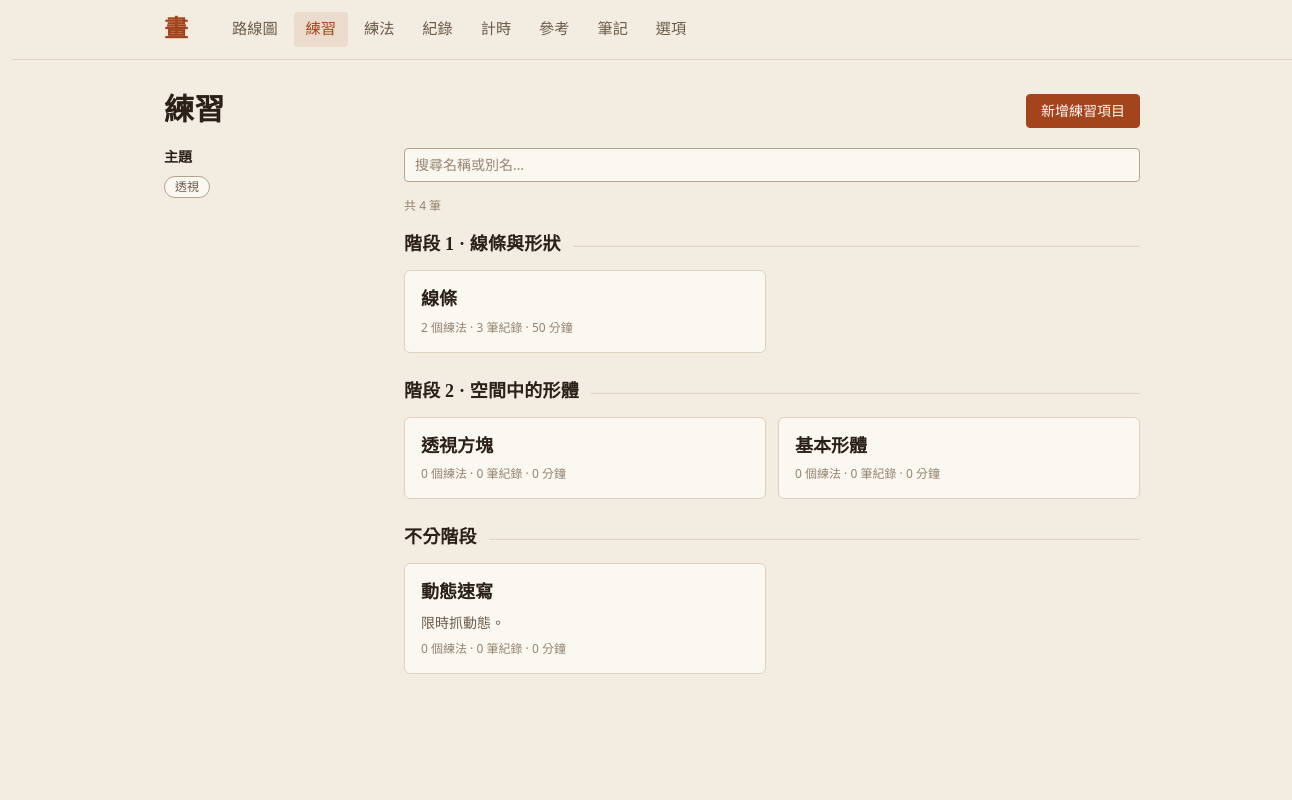
Test: the exercise library › keeps the topic filter in the URL and sends it as topic_id
Click the button "透視": click(187, 187) [164, 176, 210, 198]
(page scrolled)
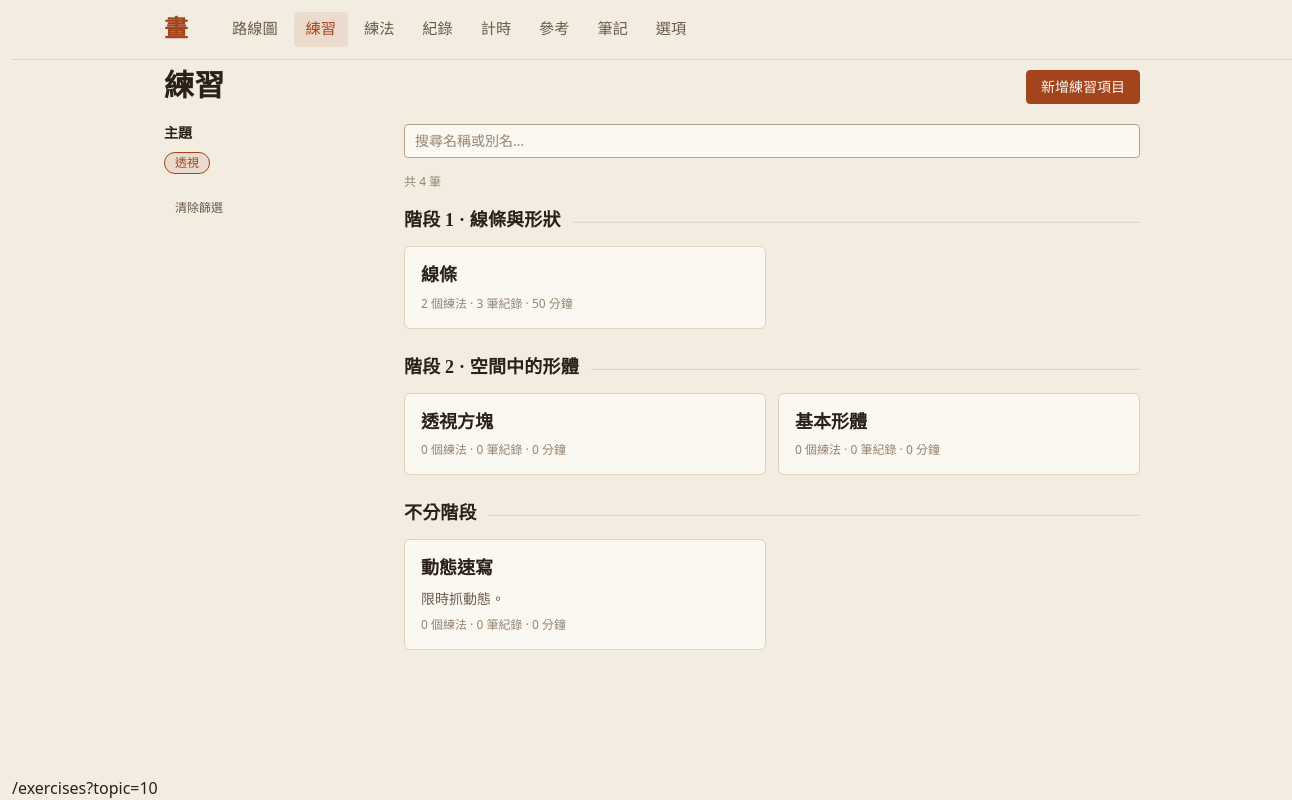
Check: the text with test id "location" reads "/exercises?topic=10", box [12, 777, 158, 799]
